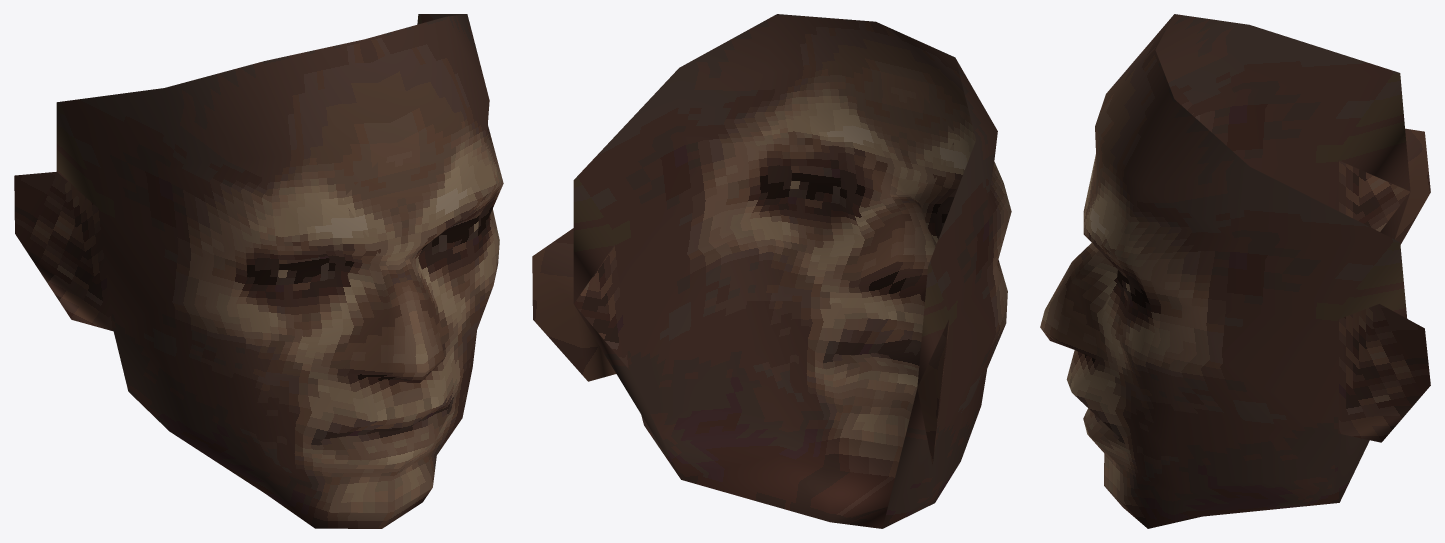
3 views of the same model, side by side, from view 1: azimuth 30°, elevation 25°; view 2: azimuth 150°, elevation 25°; view 3: azimuth 270°, elevation 25° (orthographic). The views are drawn at different scales.
Bounding box in the file's own units: 17.18 × 18.64 × 14.42.
Materials: 1 (1 with a texture image).
